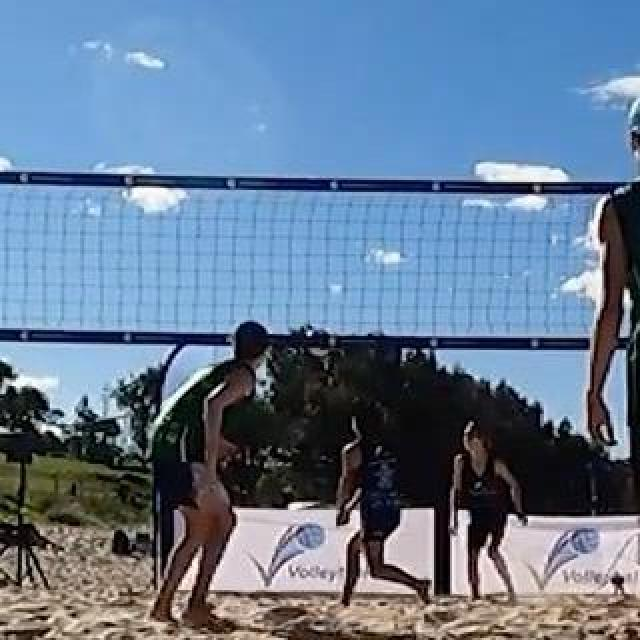volleyball: (305, 327, 331, 357)
